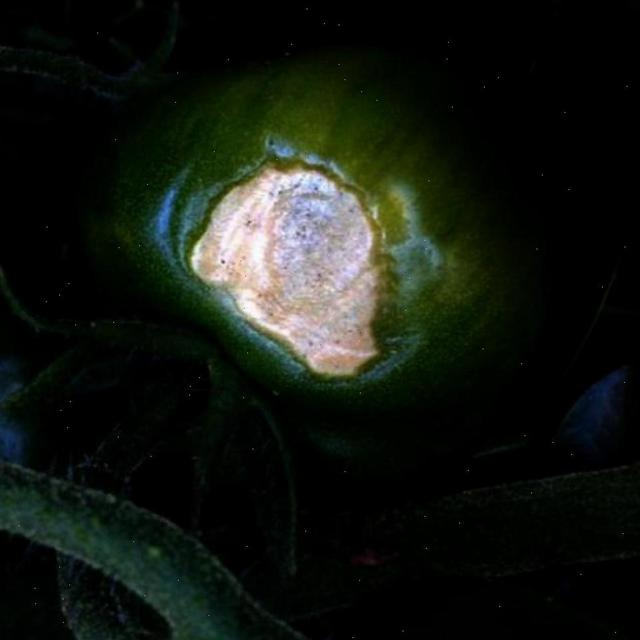Sunscald Fruit: (121, 98, 262, 256)
